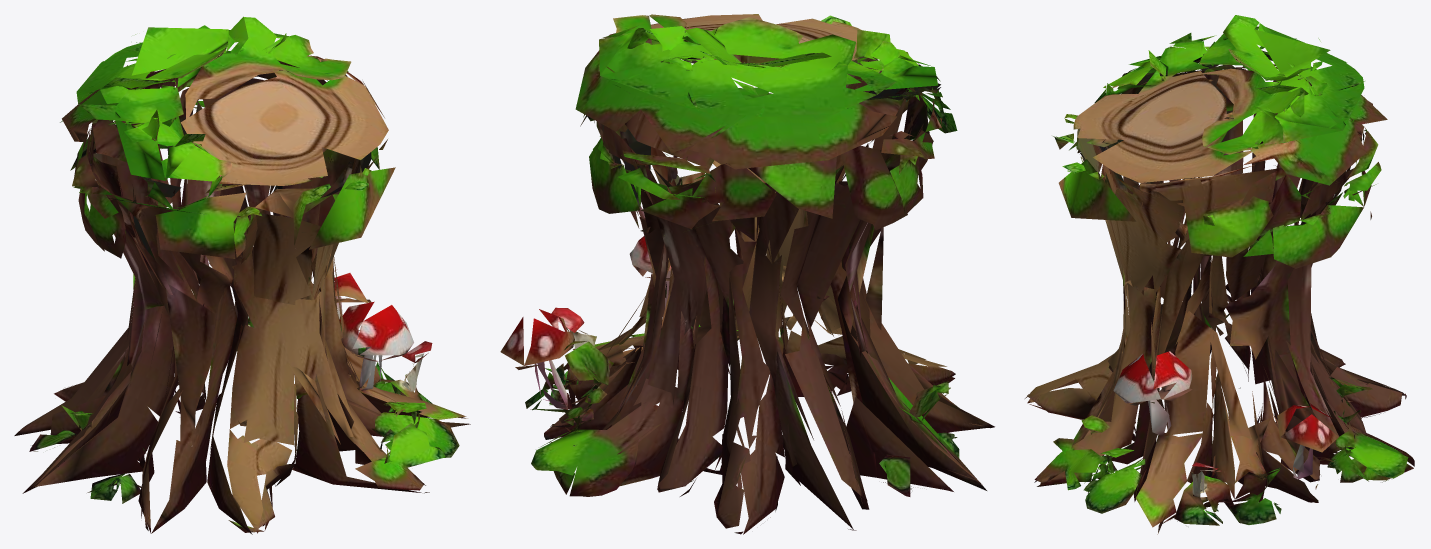
File: orman_kutuk.glb
3 views of the same model, side by side, from view 1: azimuth 30°, elevation 25°; view 2: azimuth 150°, elevation 25°; view 3: azimuth 270°, elevation 25° (orthographic). The views are drawn at different scales.
Visible parts, largest first — view 1: geometry_0; view 2: geometry_0; view 3: geometry_0.
Part boxes in pixels (left/top/right/bottom): geometry_0: left=14, top=16, right=470, bottom=534; geometry_0: left=500, top=14, right=994, bottom=534; geometry_0: left=1025, top=15, right=1414, bottom=534.
Size of the model in its own units: 0.9731 by 0.8726 by 0.8161.
1 material, 1 textured.
